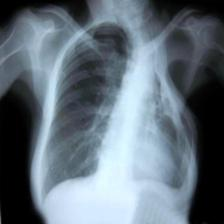tuberculosis: (32, 16, 192, 203)
